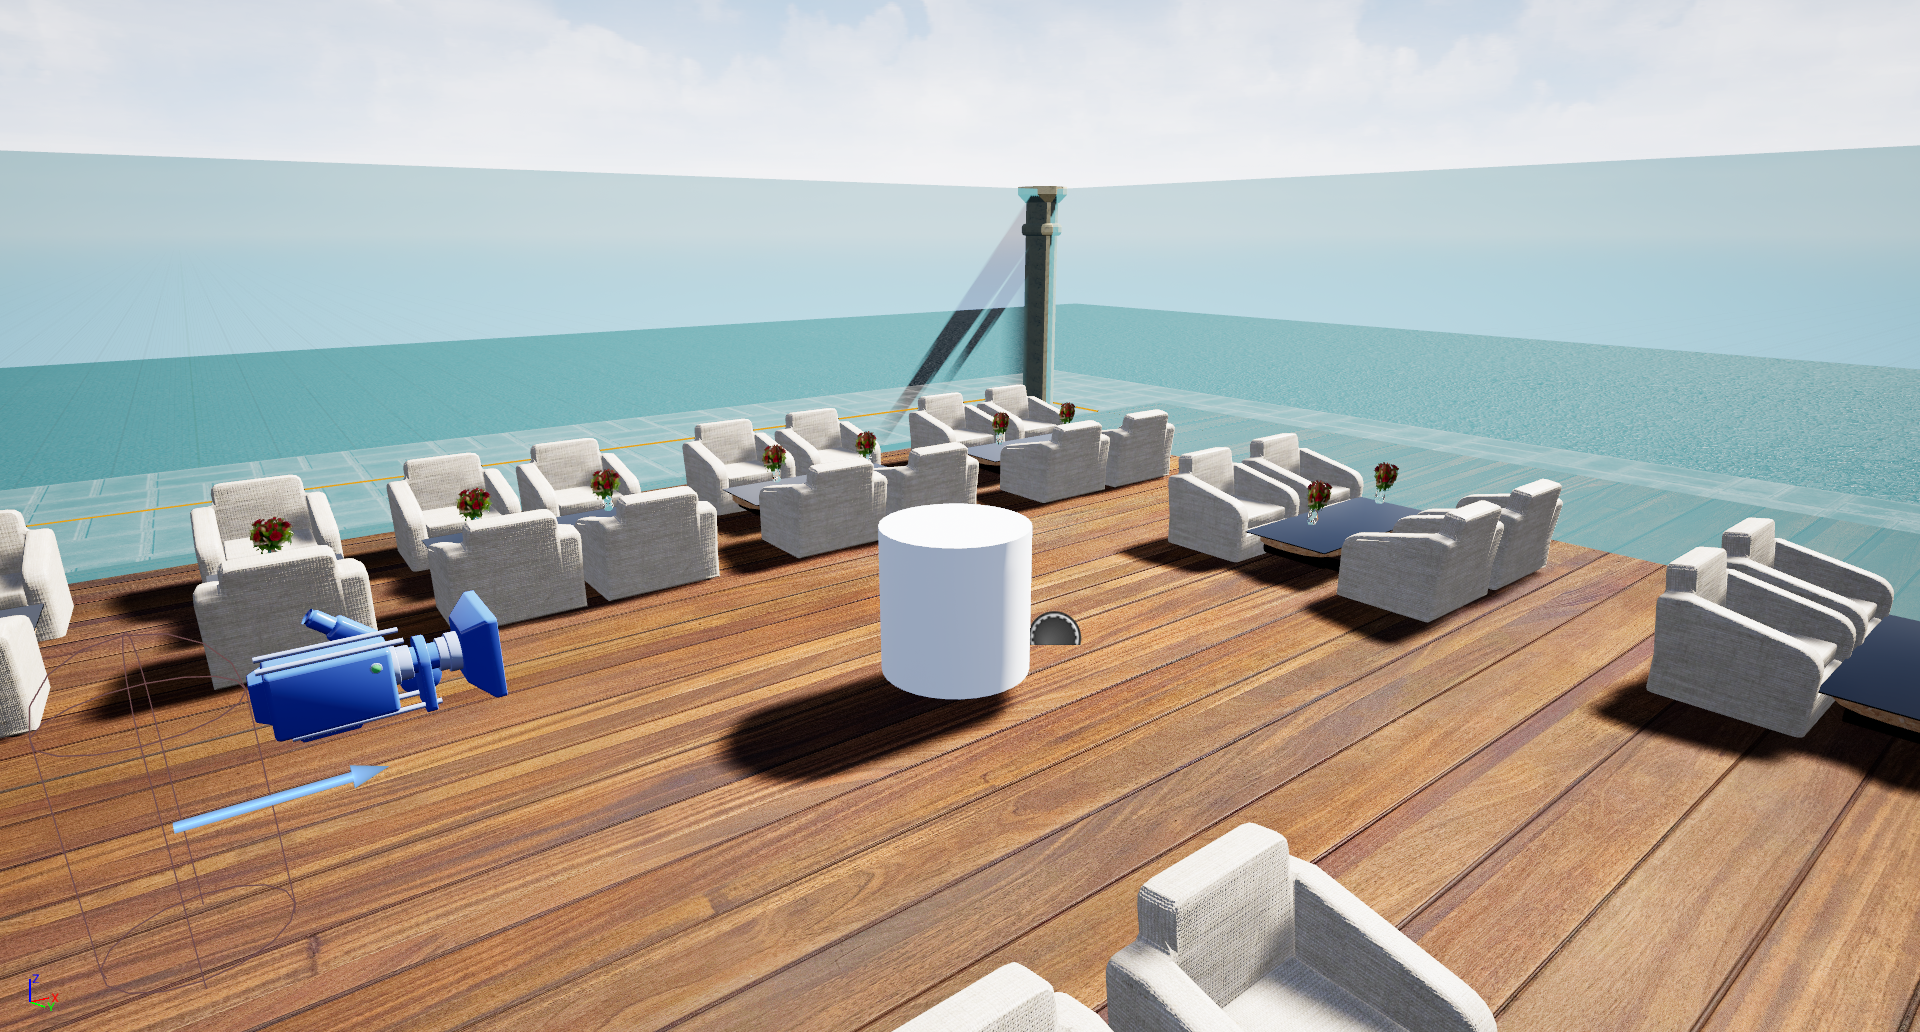Humen: (877, 505, 1036, 700)
